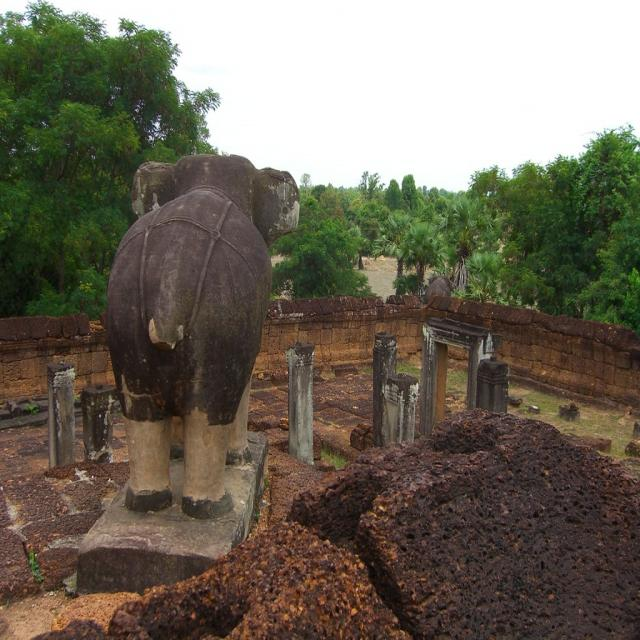elephant: (100, 173, 285, 536), (417, 269, 452, 309)
